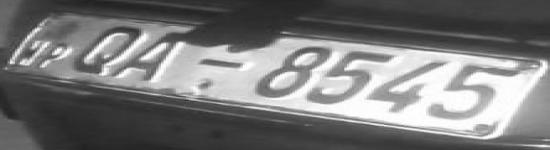-: (194, 53, 246, 71)
5: (304, 45, 396, 105), (442, 60, 533, 120), (366, 56, 445, 112)
8: (245, 39, 324, 100)
A: (121, 32, 197, 82)
Q: (75, 19, 144, 75)
W: (14, 39, 44, 68), (40, 43, 72, 70)
